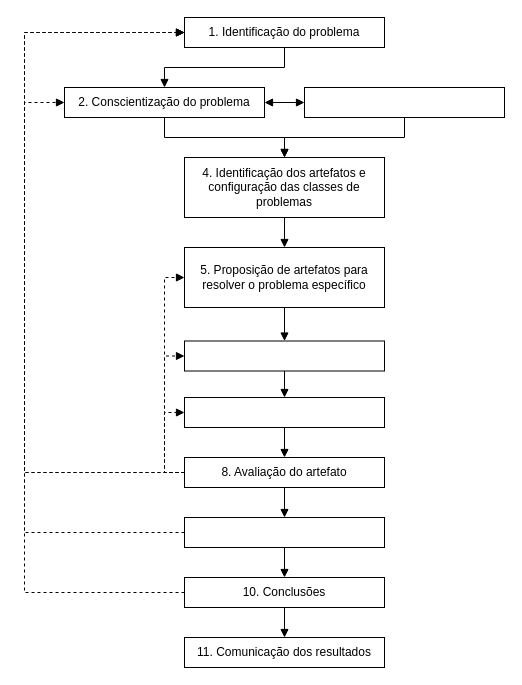
The diagram is 522 pixels wide and 685 high, and some of its shapes have lost their labels. Each missing label, with the box of its shape:
3. Revisão sistemática da literatura: (304, 86, 504, 118)
6. Projeto do artefato selecionado: (184, 340, 384, 371)
7. Desenvolvimento do artefato: (184, 396, 384, 428)
9. Explicitação das aprendizagens: (184, 516, 384, 548)
